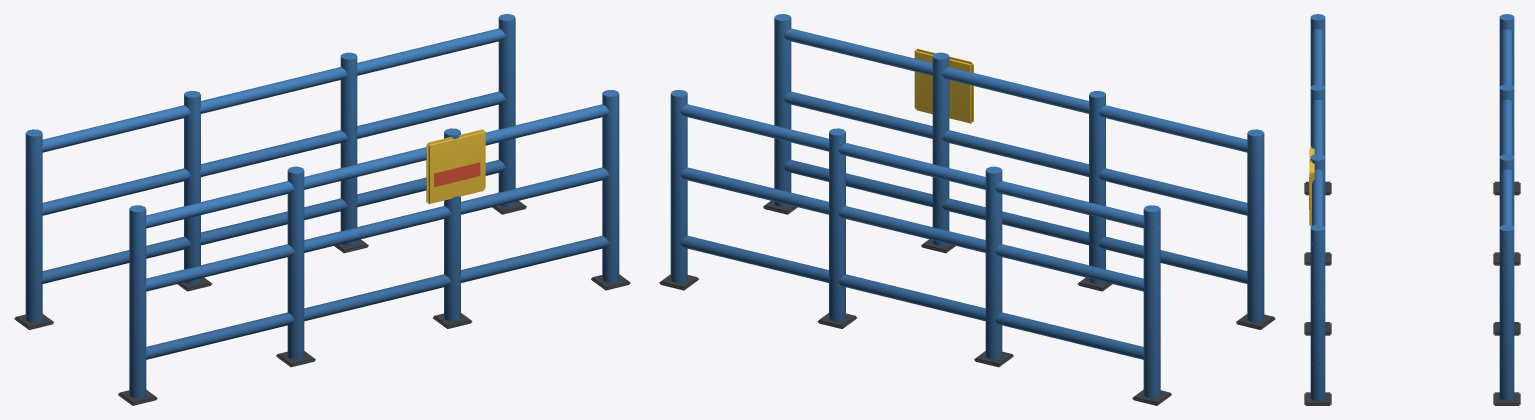
Rendered from CartCorral_Outdoor_30.glb.
3 renders of one model, left to right at view 1: azimuth 30°, elevation 25°; view 2: azimuth 150°, elevation 25°; view 3: azimuth 270°, elevation 25°, orthographic. The views are drawn at different scales.
Parts seen in each view (by area): view 1: SM_CartCorral_Outdoor_30; view 2: SM_CartCorral_Outdoor_30; view 3: SM_CartCorral_Outdoor_30.
Part boxes in pixels (x1,y1,x2,y2): SM_CartCorral_Outdoor_30: (14,14,630,405); SM_CartCorral_Outdoor_30: (659,14,1275,405); SM_CartCorral_Outdoor_30: (1304,14,1520,405).
Bounding box in the file's own units: 3.06 × 1.11 × 1.26.
Materials: 1 (1 with a texture image).
